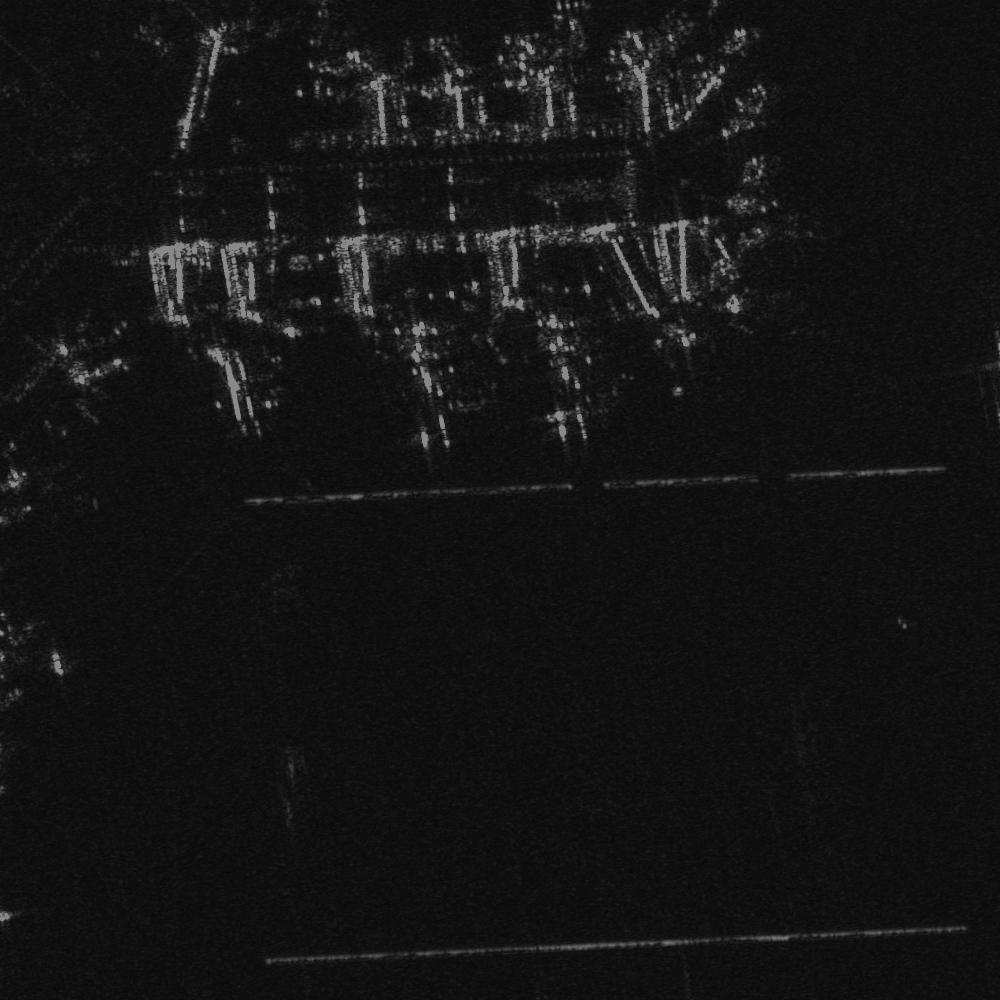A220: (189, 338, 285, 441)
Boeing737: (43, 339, 134, 410), (692, 286, 780, 335)
Boeing787: (358, 315, 466, 448)
other: (496, 304, 613, 437)
